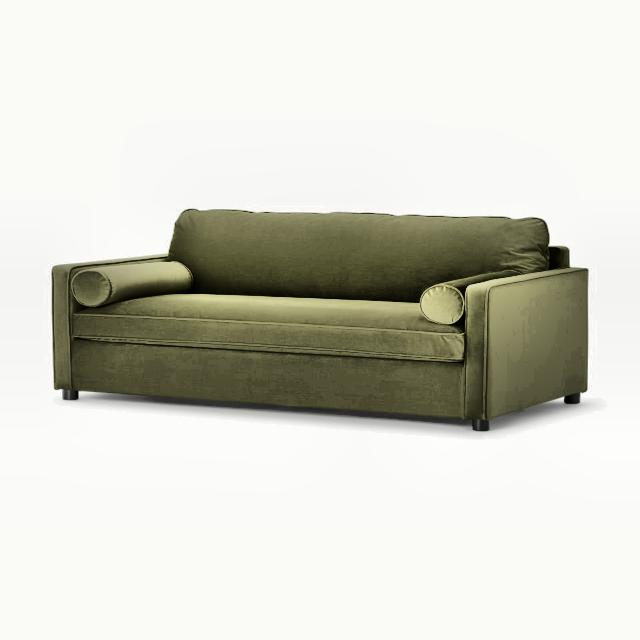sofa: (51, 209, 591, 434)
